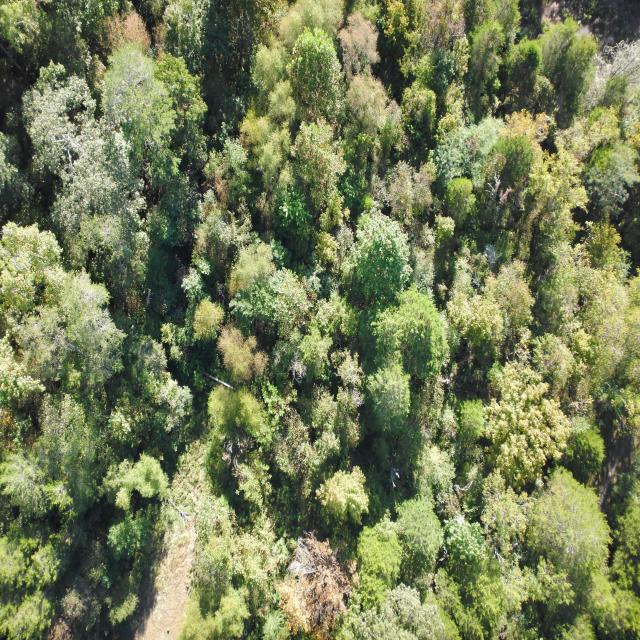Area of Interest: (11, 13, 632, 632)
